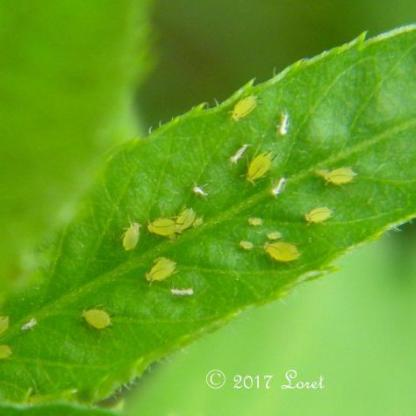aphid: (240, 144, 278, 193), (139, 252, 188, 288), (323, 162, 370, 198), (258, 240, 310, 268), (221, 98, 266, 128), (77, 302, 112, 336), (302, 200, 336, 233), (150, 210, 181, 242), (175, 205, 203, 236), (234, 231, 256, 259), (121, 216, 140, 247), (246, 213, 272, 230), (264, 230, 288, 244)
